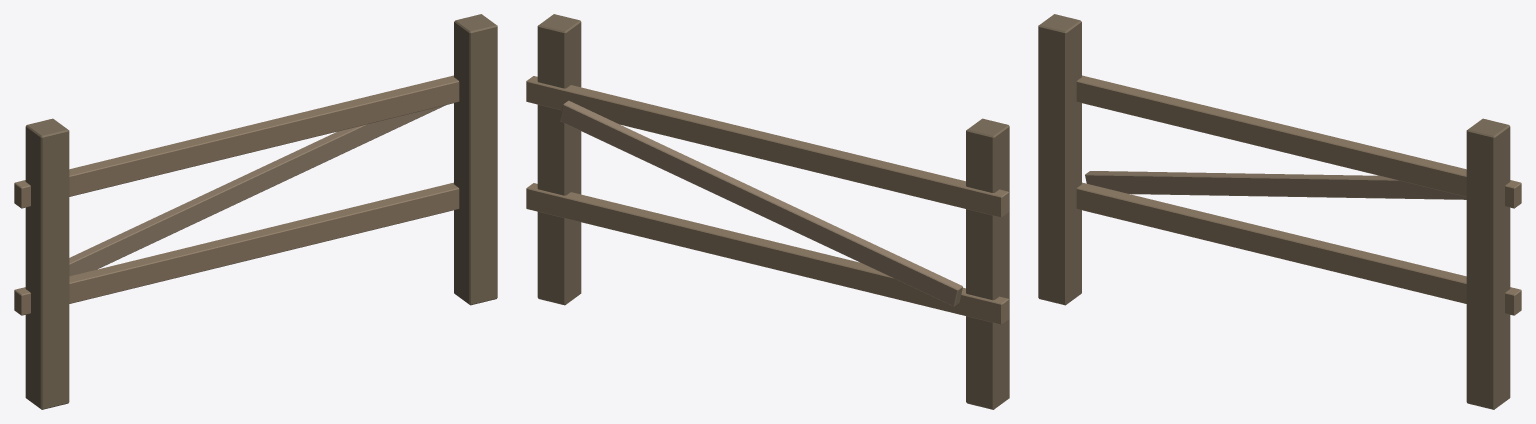
Rendered from env_fence_rail_intact_b_v01_diagonal_stay.glb.
3 renders of one model, left to right at view 1: azimuth 30°, elevation 25°; view 2: azimuth 150°, elevation 25°; view 3: azimuth 330°, elevation 25°, orthographic.
Parts seen in each view (by area): view 1: material_2, material_0, material_1; view 2: material_0, material_2, material_1; view 3: material_2, material_0, material_1.
Part boxes in pixels (left/top/right/bottom): material_2: left=25, top=14, right=497, bottom=409; material_0: left=14, top=75, right=459, bottom=315; material_1: left=69, top=105, right=445, bottom=276; material_0: left=526, top=76, right=1008, bottom=324; material_2: left=537, top=14, right=1009, bottom=409; material_1: left=560, top=100, right=962, bottom=306; material_2: left=1038, top=14, right=1510, bottom=409; material_0: left=1076, top=75, right=1521, bottom=315; material_1: left=1085, top=171, right=1466, bottom=199.
Bounding box in the file's own units: 2 × 1.1 × 0.17.
